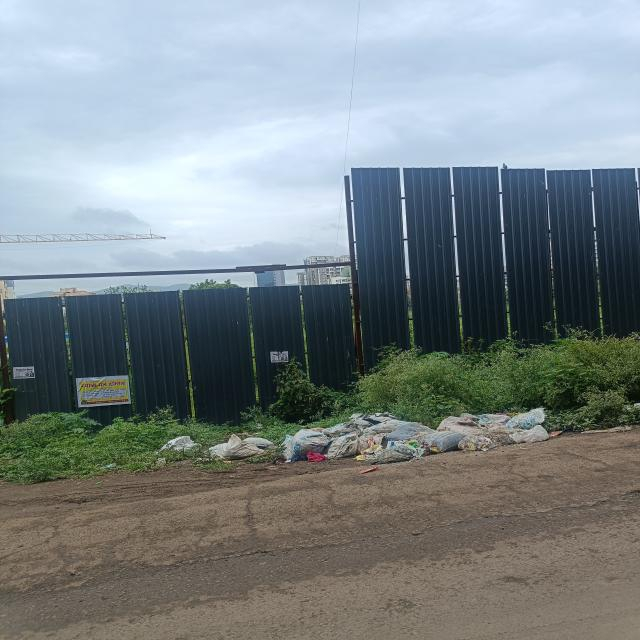garbage: (211, 412, 558, 460)
